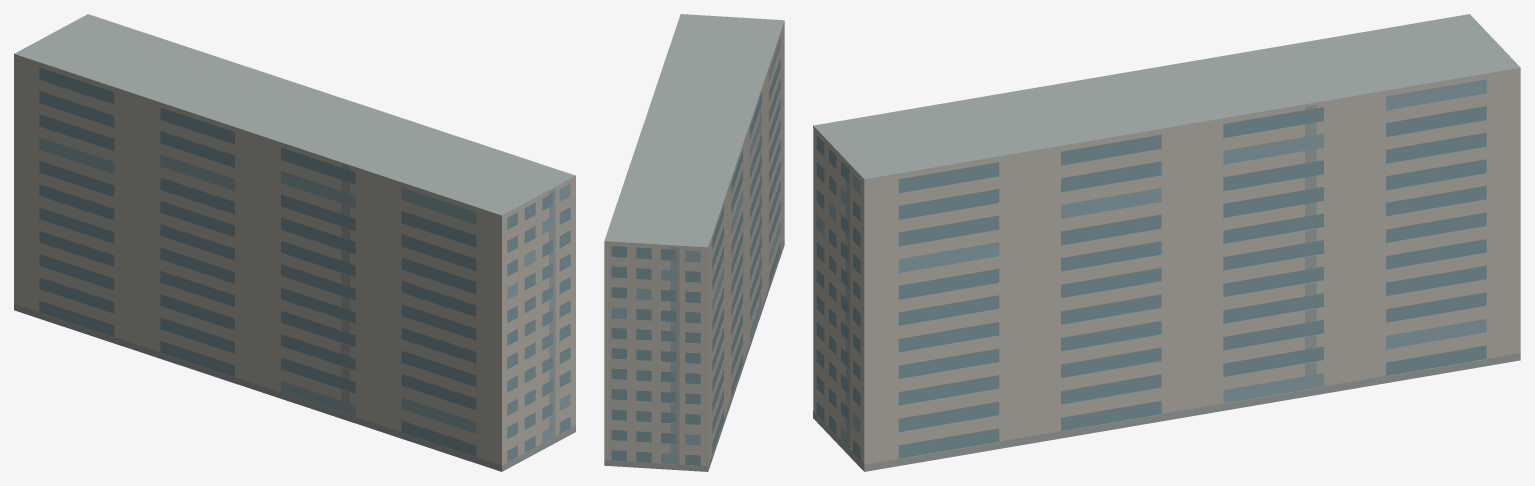
File: residential-1e7de379-d14e-4480-a101-af258453f883.glb
The picture shows the model from 3 angles, left to right: view 1: azimuth 30°, elevation 25°; view 2: azimuth 150°, elevation 25°; view 3: azimuth 270°, elevation 25°; orthographic projection. The views are drawn at different scales.
Parts seen in each view (by area): view 1: residential-1e7de379-d14e-4480-a101-af258453f883.tmp; view 2: residential-1e7de379-d14e-4480-a101-af258453f883.tmp; view 3: residential-1e7de379-d14e-4480-a101-af258453f883.tmp.
Boxes of the visible parts, x1,y1,x2,y2 form: residential-1e7de379-d14e-4480-a101-af258453f883.tmp: (14, 14, 575, 471); residential-1e7de379-d14e-4480-a101-af258453f883.tmp: (604, 14, 784, 471); residential-1e7de379-d14e-4480-a101-af258453f883.tmp: (813, 14, 1520, 471).
Size of the model in its own units: 37.54 by 31 by 67.93.
